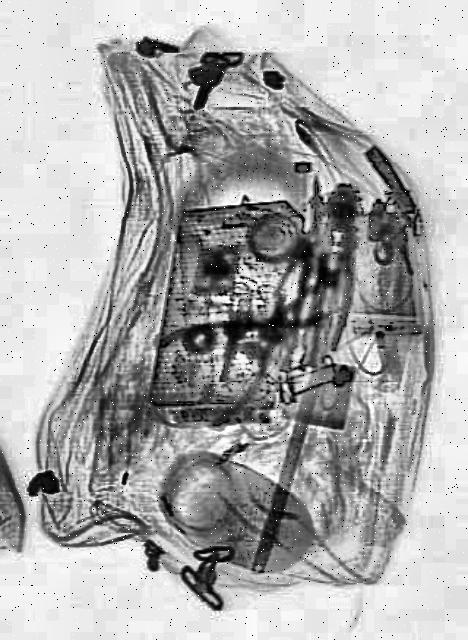Pliers: (158, 264, 316, 438)
